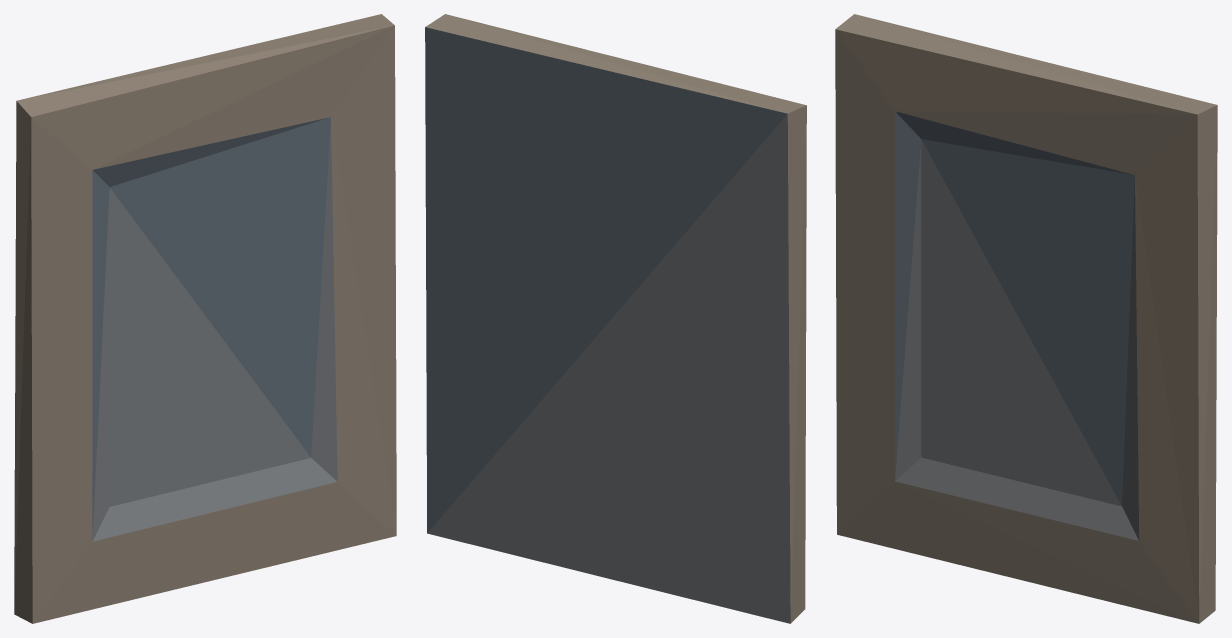
Rendered from small_frame.glb.
3 renders of one model, left to right at view 1: azimuth 30°, elevation 25°; view 2: azimuth 150°, elevation 25°; view 3: azimuth 330°, elevation 25°, orthographic.
Visible parts, largest first — view 1: small_frame; view 2: small_frame; view 3: small_frame.
Boxes of the visible parts, bbox=[...] form: small_frame: bbox=[14, 14, 396, 623]; small_frame: bbox=[425, 14, 806, 623]; small_frame: bbox=[835, 14, 1217, 623].
Bounding box in the file's own units: 0.3 × 0.4 × 0.025.
